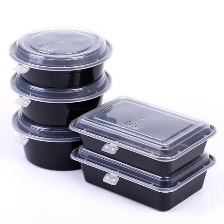plastic_box: (62, 90, 224, 216), (3, 20, 119, 177)
